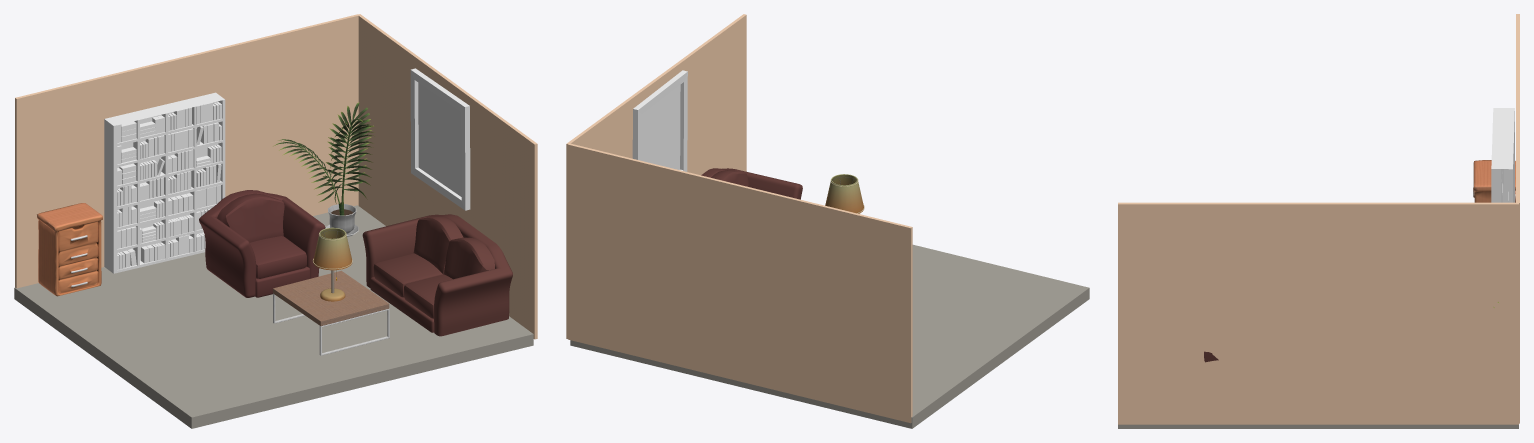
File: psicologia.glb
The picture shows the model from 3 angles, left to right: view 1: azimuth 30°, elevation 25°; view 2: azimuth 150°, elevation 25°; view 3: azimuth 270°, elevation 25°; orthographic projection. The views are drawn at different scales.
Visible parts, largest first — view 1: Cube, Cube.001, Cube.002, Cube.004, Sofa_Long_SA, Sofa_SA, Plane.004, Mesh_0, Coffe_Table, LP_Chunk_00.006, Lamp.005; view 2: Cube.001, Cube, Cube.002, Plane.004, Sofa_Long_SA, Lamp.005; view 3: Cube.002, Cube.004, Cube, Cube.001, Mesh_0.
Boxes of the visible parts, left/top/right/bottom form: Cube: left=14, top=205, right=533, bottom=428; Cube.001: left=15, top=14, right=359, bottom=288; Cube.002: left=358, top=14, right=537, bottom=339; Cube.004: left=104, top=92, right=225, bottom=273; Sofa_Long_SA: left=362, top=214, right=512, bottom=336; Sofa_SA: left=199, top=190, right=325, bottom=297; Plane.004: left=410, top=68, right=470, bottom=210; Mesh_0: left=37, top=203, right=102, bottom=296; Coffe_Table: left=273, top=270, right=389, bottom=355; LP_Chunk_00.006: left=273, top=102, right=374, bottom=236; Lamp.005: left=313, top=227, right=352, bottom=270; Cube.001: left=568, top=143, right=912, bottom=423; Cube: left=570, top=244, right=1089, bottom=428; Cube.002: left=566, top=14, right=746, bottom=338; Plane.004: left=632, top=70, right=687, bottom=171; Sofa_Long_SA: left=701, top=168, right=802, bottom=199; Lamp.005: left=825, top=174, right=863, bottom=213; Cube.002: left=1118, top=202, right=1518, bottom=424; Cube.004: left=1491, top=108, right=1514, bottom=202; Cube: left=1118, top=424, right=1518, bottom=428; Cube.001: left=1516, top=14, right=1519, bottom=423; Mesh_0: left=1473, top=160, right=1515, bottom=202.
Bounding box in the file's own units: 14.06 × 7.74 × 12.43.
Materials: 13 (5 with a texture image).
